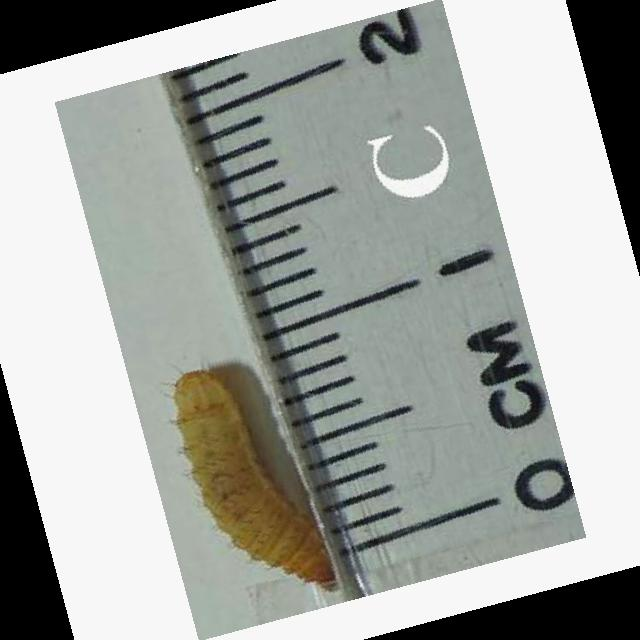Maggot: (168, 363, 344, 592)
